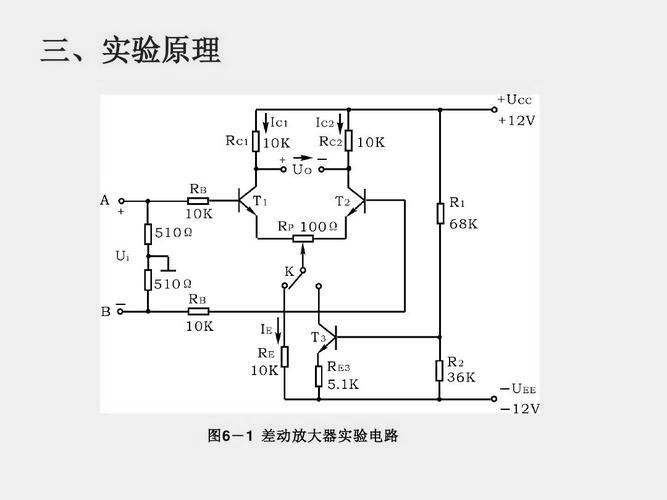res1: (278, 344, 291, 370), (343, 127, 355, 154), (434, 357, 445, 386), (186, 306, 212, 318), (313, 363, 324, 391), (435, 200, 446, 228), (186, 195, 211, 207), (291, 233, 316, 245), (251, 128, 262, 155), (143, 221, 153, 249), (143, 267, 153, 294)
switch: (282, 266, 308, 293)
triode: (235, 180, 264, 222), (340, 181, 370, 221), (316, 318, 342, 358)
